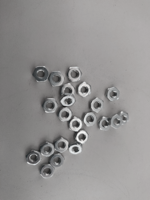nut: (67, 66, 83, 83), (33, 66, 49, 82), (54, 137, 69, 154), (26, 150, 41, 166), (76, 83, 92, 98), (40, 163, 55, 179), (50, 72, 65, 87), (40, 142, 55, 157), (42, 99, 58, 113), (106, 87, 120, 103), (91, 98, 105, 114), (61, 94, 76, 108), (58, 108, 72, 123), (51, 153, 65, 168), (70, 116, 83, 132), (75, 130, 89, 144), (110, 114, 123, 129), (62, 83, 75, 97), (84, 113, 97, 127), (69, 142, 83, 155), (98, 117, 111, 131), (120, 112, 129, 126)
